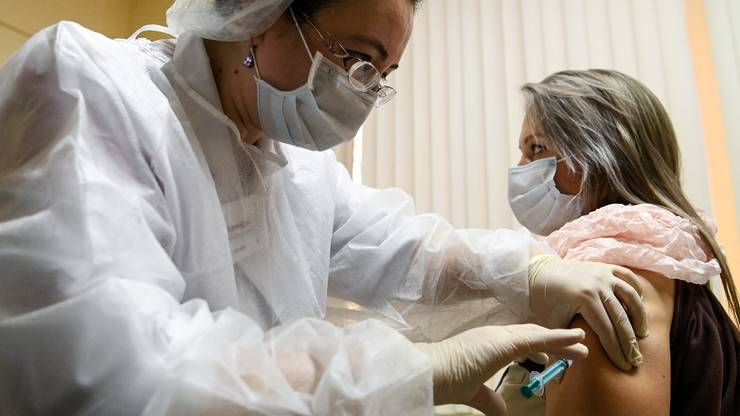with_mask: (242, 15, 371, 146), (517, 135, 584, 223)
